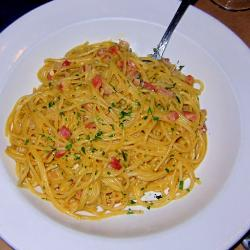bolonese_pasta: (17, 44, 203, 209)
